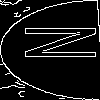N: (25, 25, 100, 61)
